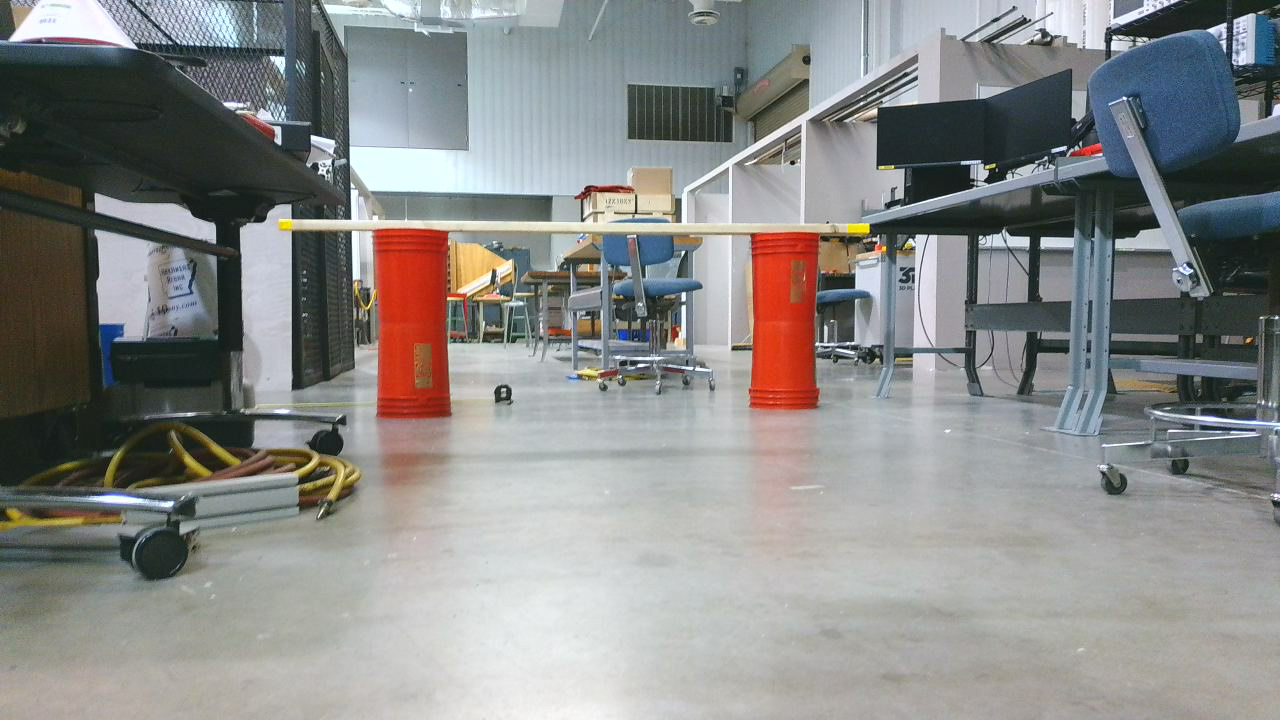red_bucket_arch: (377, 232, 828, 423)
